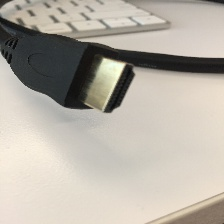hdmi_male: (30, 24, 136, 124)
